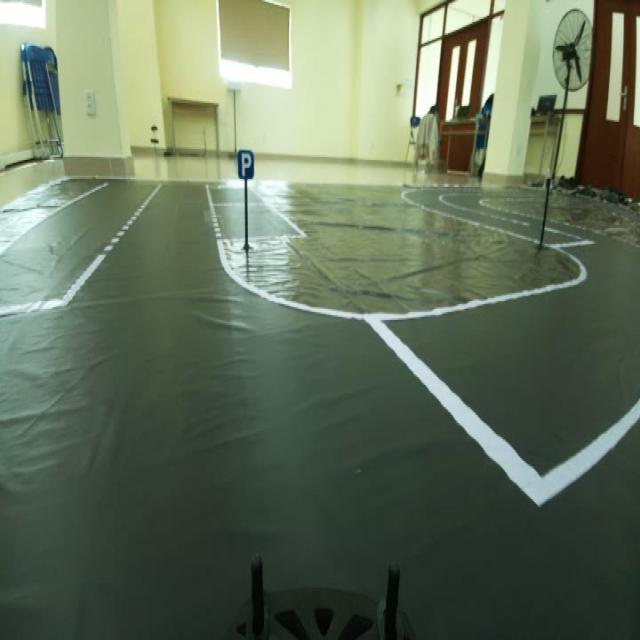parking: (233, 138, 260, 192)
